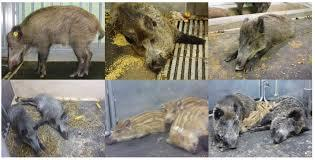wildboar: (6, 4, 105, 78), (221, 12, 297, 76), (248, 94, 311, 144), (14, 93, 70, 140), (7, 103, 53, 157), (106, 109, 168, 145), (165, 104, 209, 154), (212, 94, 244, 150), (160, 95, 208, 124)
